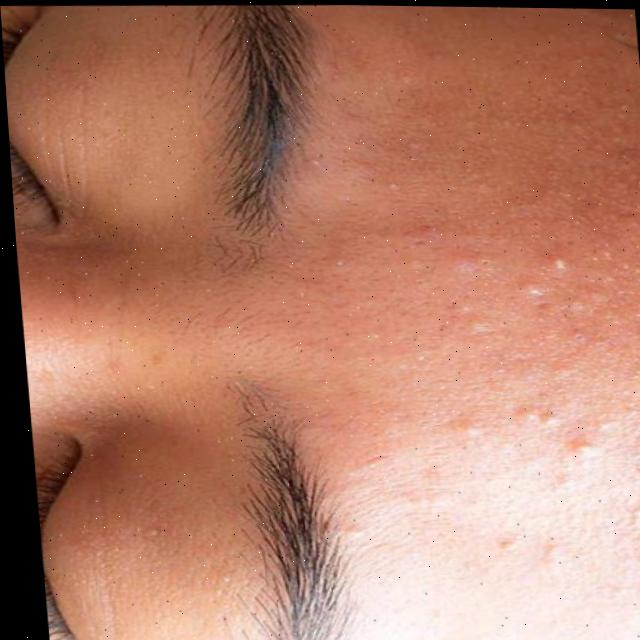Acne: (359, 60, 640, 506)
